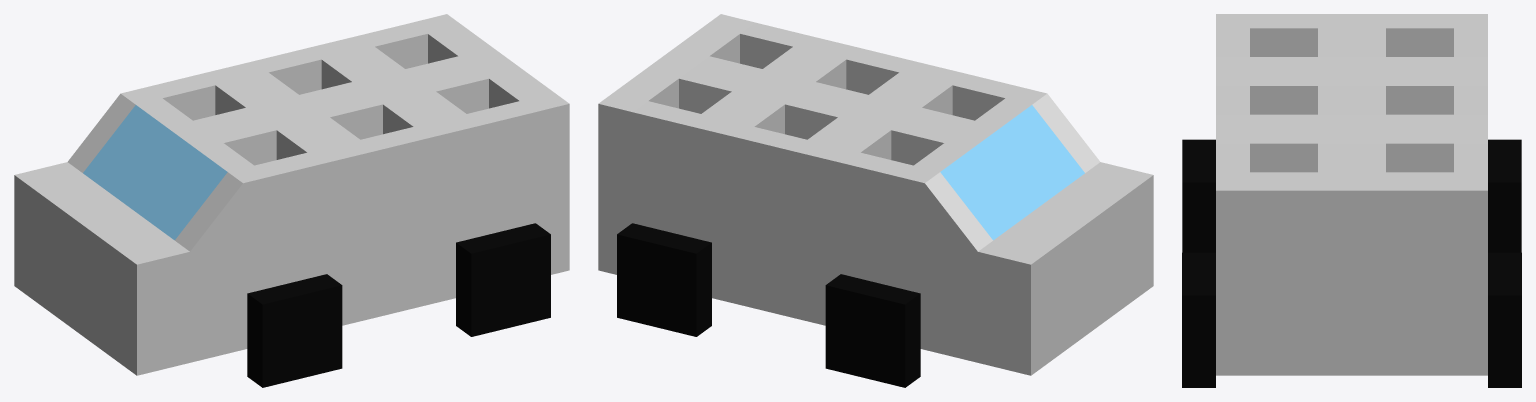
The model's file is Van.fbx.
The picture shows the model from 3 angles, left to right: view 1: azimuth 30°, elevation 25°; view 2: azimuth 150°, elevation 25°; view 3: azimuth 270°, elevation 25°; orthographic projection. The views are drawn at different scales.
Parts seen in each view (by area): view 1: Van_Base; view 2: Van_Base; view 3: Van_Base.
Part boxes in pixels (x1=…): Van_Base: x1=14, y1=14, x2=569, y2=387; Van_Base: x1=598, y1=14, x2=1153, y2=387; Van_Base: x1=1182, y1=14, x2=1521, y2=387.
Size of the model in its own units: 81.5 by 35.02 by 50.02.
